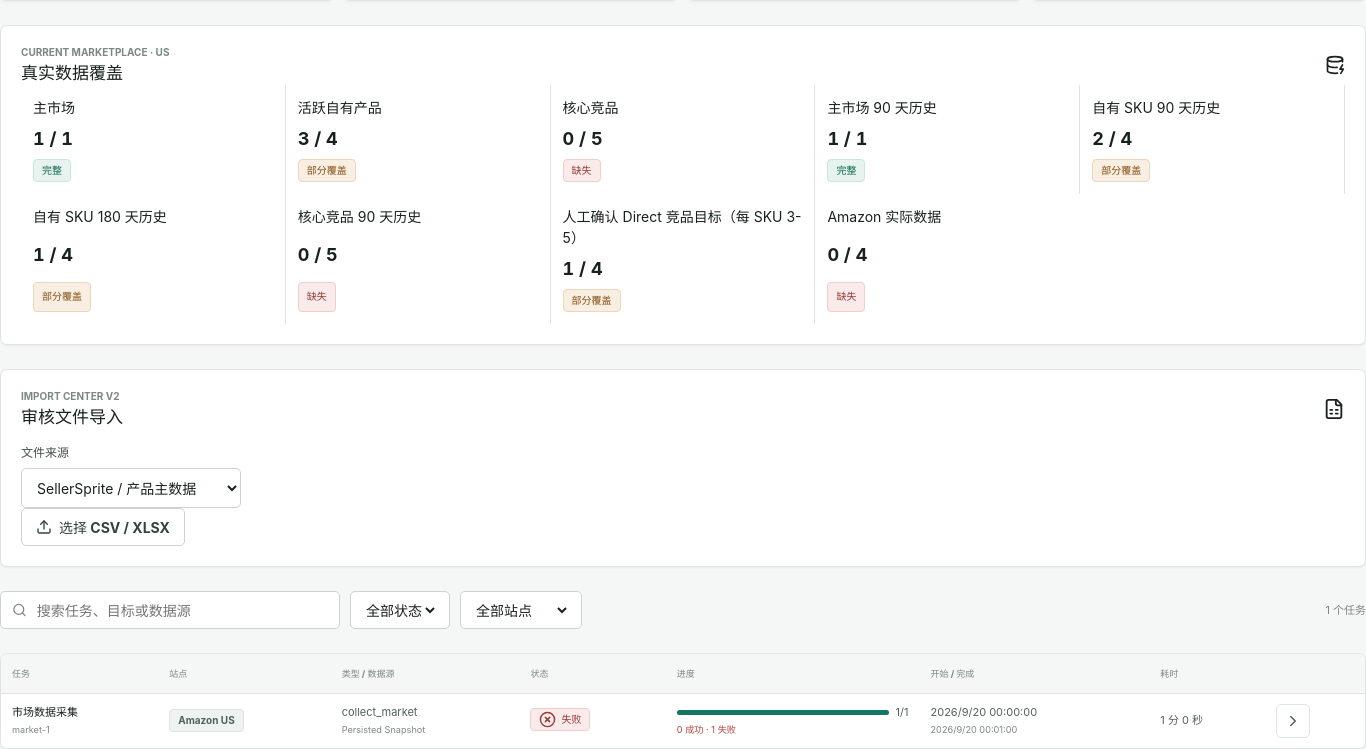
Test: DataTasksPage coverage › routes ResearchJob-owned task failures back to the owning workflow
(page scrolled)
Click the button named "查看 市场数据采集 错误详情" at (1293, 721), box [1276, 704, 1310, 738]
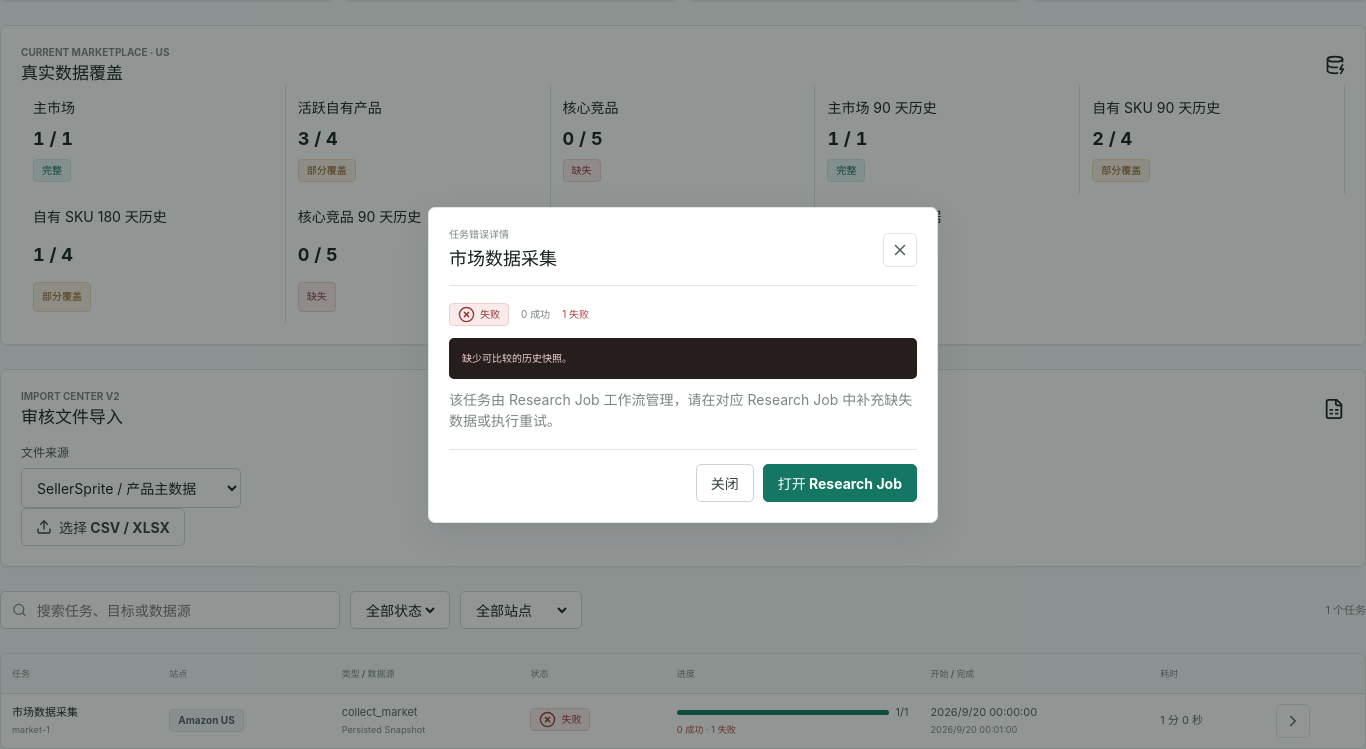
expect the text "该任务由 Research Job 工作流管理，请在对应 Research Job 中补充缺失数据或执行重试。" is shown: met, box [449, 389, 917, 431]
